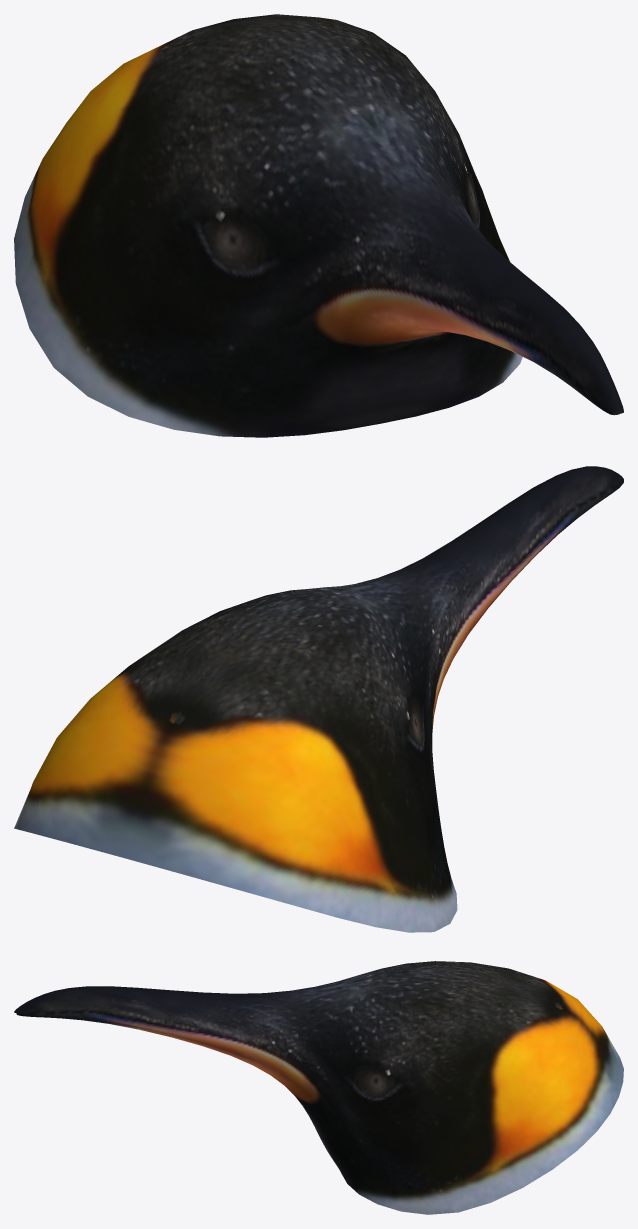
Rendered from cabezaPin.obj.
The picture shows the model from 3 angles, top to bottom: view 1: azimuth 30°, elevation 25°; view 2: azimuth 150°, elevation 25°; view 3: azimuth 270°, elevation 25°; orthographic projection. The views are drawn at different scales.
Parts seen in each view (by area): view 1: 10033_Penguin_v1_iterations-2.001; view 2: 10033_Penguin_v1_iterations-2.001; view 3: 10033_Penguin_v1_iterations-2.001.
Boxes of the visible parts, x1,y1,x2,y2 form: 10033_Penguin_v1_iterations-2.001: [14, 14, 623, 437]; 10033_Penguin_v1_iterations-2.001: [14, 466, 623, 932]; 10033_Penguin_v1_iterations-2.001: [14, 961, 623, 1214].
Bounding box in the file's own units: 0.056 × 0.0375 × 0.1104.
Materials: 1 (1 with a texture image).
